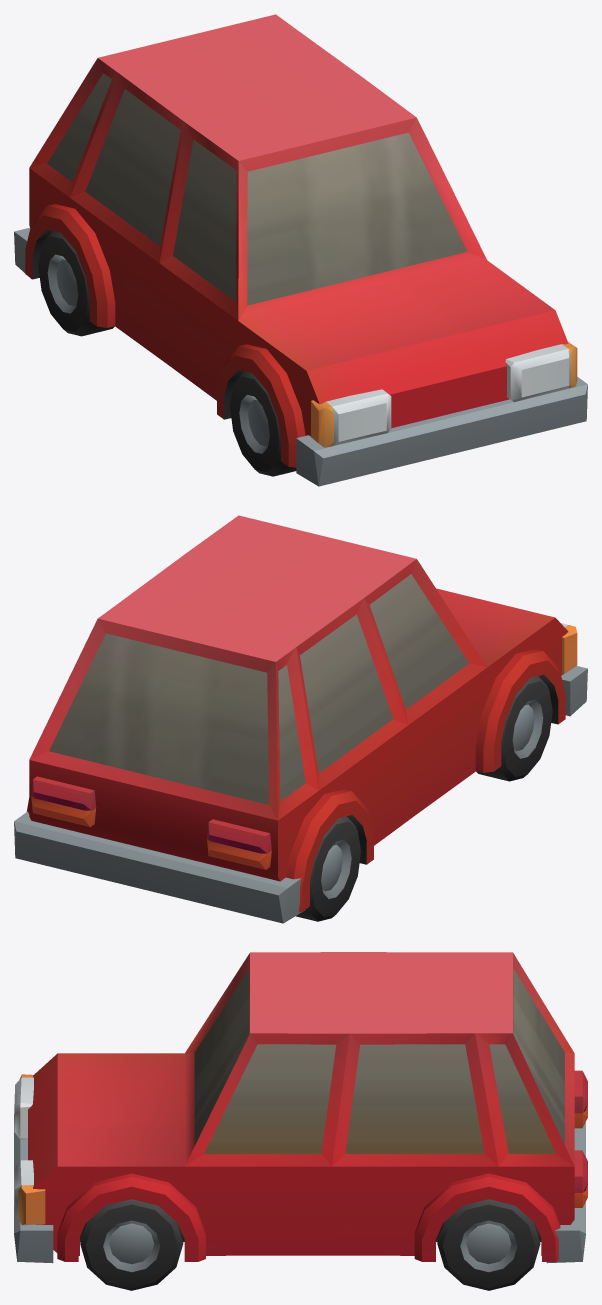
File: kkcity.car_hatchback.glb
3 renders of one model, top to bottom at view 1: azimuth 30°, elevation 25°; view 2: azimuth 150°, elevation 25°; view 3: azimuth 270°, elevation 25°, orthographic. The views are drawn at different scales.
Visible parts, largest first — view 1: Cube.13730, car_hatchback_wheel_rear_right, car_hatchback_wheel_front_right; view 2: Cube.13730, car_hatchback_wheel_front_right, car_hatchback_wheel_rear_right; view 3: Cube.13730, car_hatchback_wheel_rear_left, car_hatchback_wheel_front_left.
Boxes of the visible parts, box(x1,y1,x2,y2) form: Cube.13730: box(14, 14, 587, 486); car_hatchback_wheel_rear_right: box(38, 231, 114, 336); car_hatchback_wheel_front_right: box(230, 371, 296, 476); Cube.13730: box(14, 515, 587, 923); car_hatchback_wheel_front_right: box(476, 676, 552, 781); car_hatchback_wheel_rear_right: box(296, 816, 361, 921); Cube.13730: box(14, 952, 587, 1263); car_hatchback_wheel_rear_left: box(437, 1199, 540, 1290); car_hatchback_wheel_front_left: box(80, 1199, 183, 1290).
Size of the model in its own units: 2.01 by 1.77 by 3.87.
Materials: 1 (1 with a texture image).
